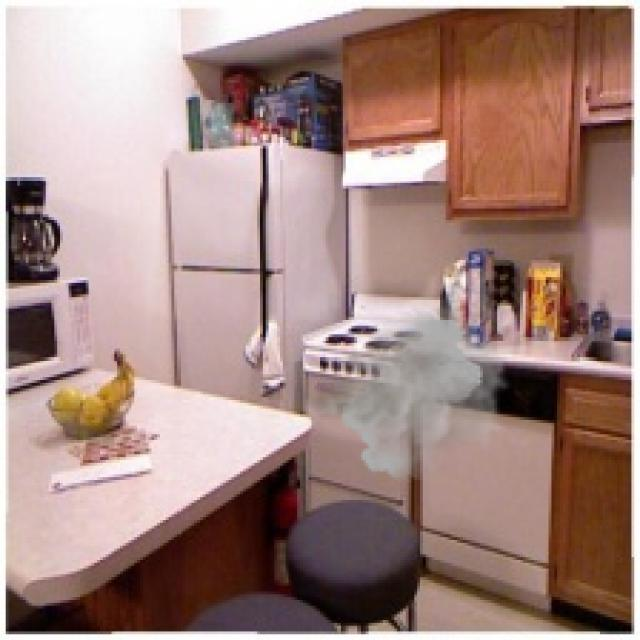smoke: (300, 283, 511, 483)
